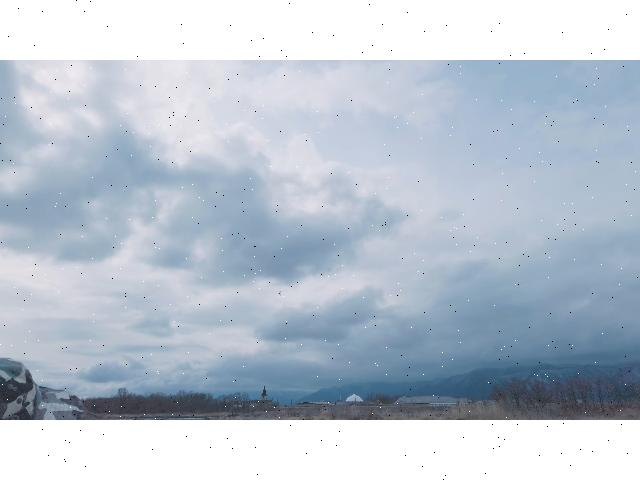Anti-Drone: (274, 289, 284, 298)
